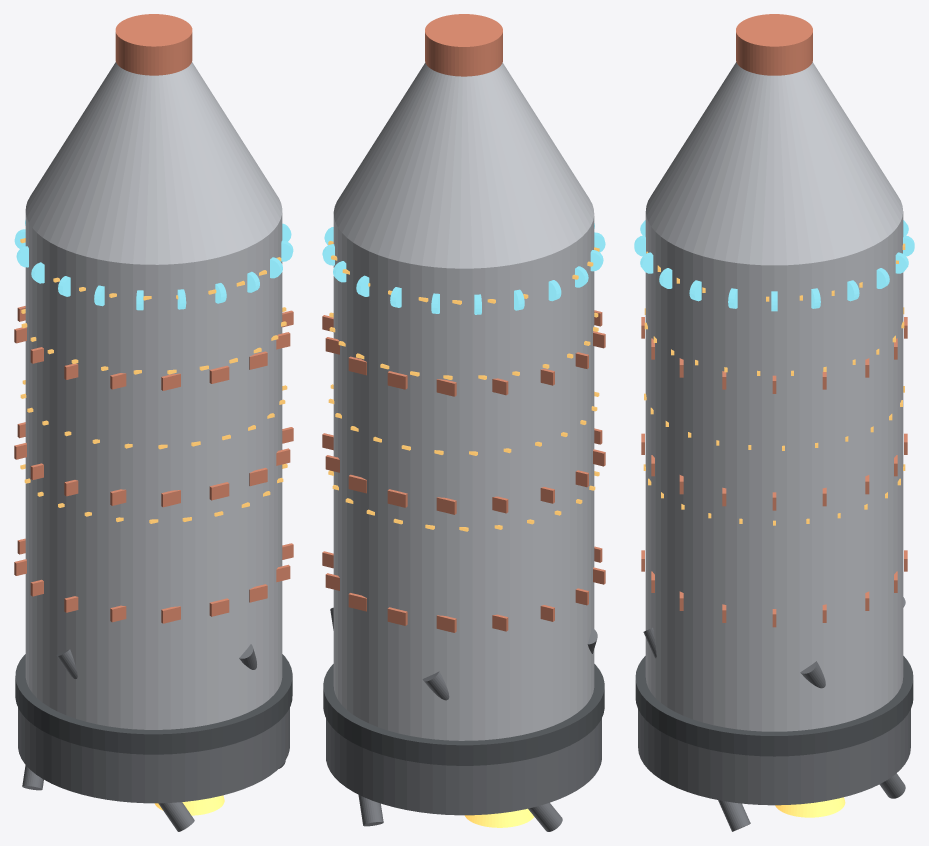
Rendered from landing_craft.glb.
3 views of the same model, side by side, from view 1: azimuth 30°, elevation 25°; view 2: azimuth 150°, elevation 25°; view 3: azimuth 270°, elevation 25° (orthographic).
Visible parts, largest first — view 1: HullBody, Nose, EngineSkirt, BaseShield, DockingRing, Leg3, Engine3; view 2: HullBody, Nose, EngineSkirt, BaseShield, DockingRing, Leg2, Engine2, Leg1; view 3: HullBody, Nose, EngineSkirt, BaseShield, DockingRing, Engine1, Leg1, Leg4.
Part boxes in pixels (bbox=[...]): HullBody: bbox=[25, 213, 282, 729]; Nose: bbox=[25, 62, 282, 264]; EngineSkirt: bbox=[18, 708, 289, 803]; BaseShield: bbox=[15, 654, 292, 754]; DockingRing: bbox=[115, 14, 192, 75]; Leg3: bbox=[56, 649, 194, 831]; Engine3: bbox=[154, 795, 224, 815]; HullBody: bbox=[333, 214, 594, 740]; Nose: bbox=[333, 62, 594, 268]; EngineSkirt: bbox=[326, 718, 601, 815]; BaseShield: bbox=[323, 664, 604, 765]; DockingRing: bbox=[425, 14, 502, 76]; Leg2: bbox=[422, 671, 562, 831]; Engine2: bbox=[464, 808, 534, 827]; Leg1: bbox=[330, 607, 383, 826]; HullBody: bbox=[645, 211, 903, 731]; Nose: bbox=[646, 62, 902, 265]; EngineSkirt: bbox=[638, 709, 910, 805]; BaseShield: bbox=[635, 656, 913, 756]; DockingRing: bbox=[736, 14, 812, 75]; Engine1: bbox=[775, 797, 845, 817]; Leg1: bbox=[800, 661, 905, 798]; Leg4: bbox=[643, 627, 750, 831].
Bounding box in the file's own units: 4.4 × 12.88 × 4.36.
